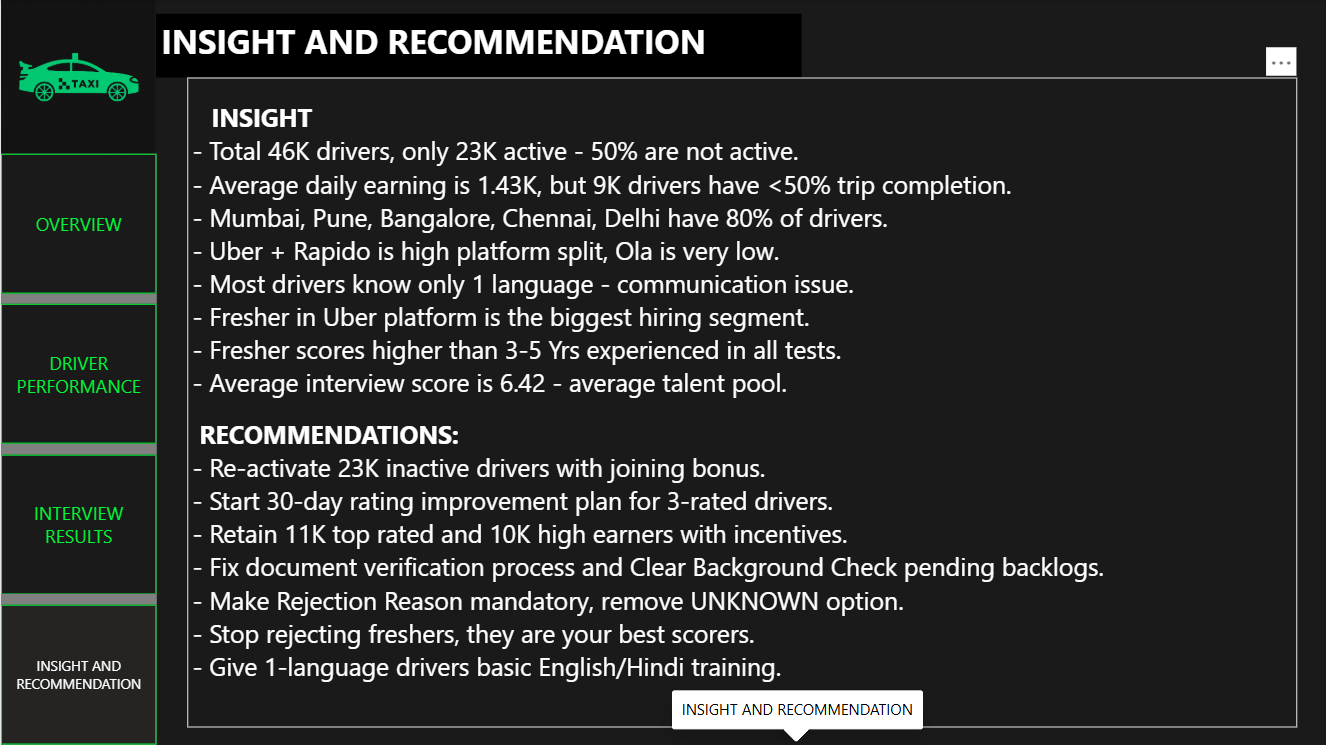

This screenshot's page, from the dashboard's own definition file:
{"tool":"powerbi","page":{"name":"INSIGHT AND RECOMMENDATION","canvas":[1280,720],"ordinal":3},"visuals":[{"type":"textbox","box":[150,13.3,623.3,61.7],"z":0},{"type":"image","box":[0,0,150,148.3],"z":1},{"type":"textbox","box":[180,75,1071.7,626.7],"z":2},{"type":"pageNavigator","box":[0,148.3,150,571.7],"z":3}]}

Visuals, with their boxes in screenshot pixels (x1, y1, x2, y2), scaled from the page's 1280x720 canvas onto the 1326x745 screenshot:
textbox: crop(155, 14, 801, 78)
image: crop(0, 0, 155, 153)
textbox: crop(186, 78, 1297, 726)
pageNavigator: crop(0, 153, 155, 744)
